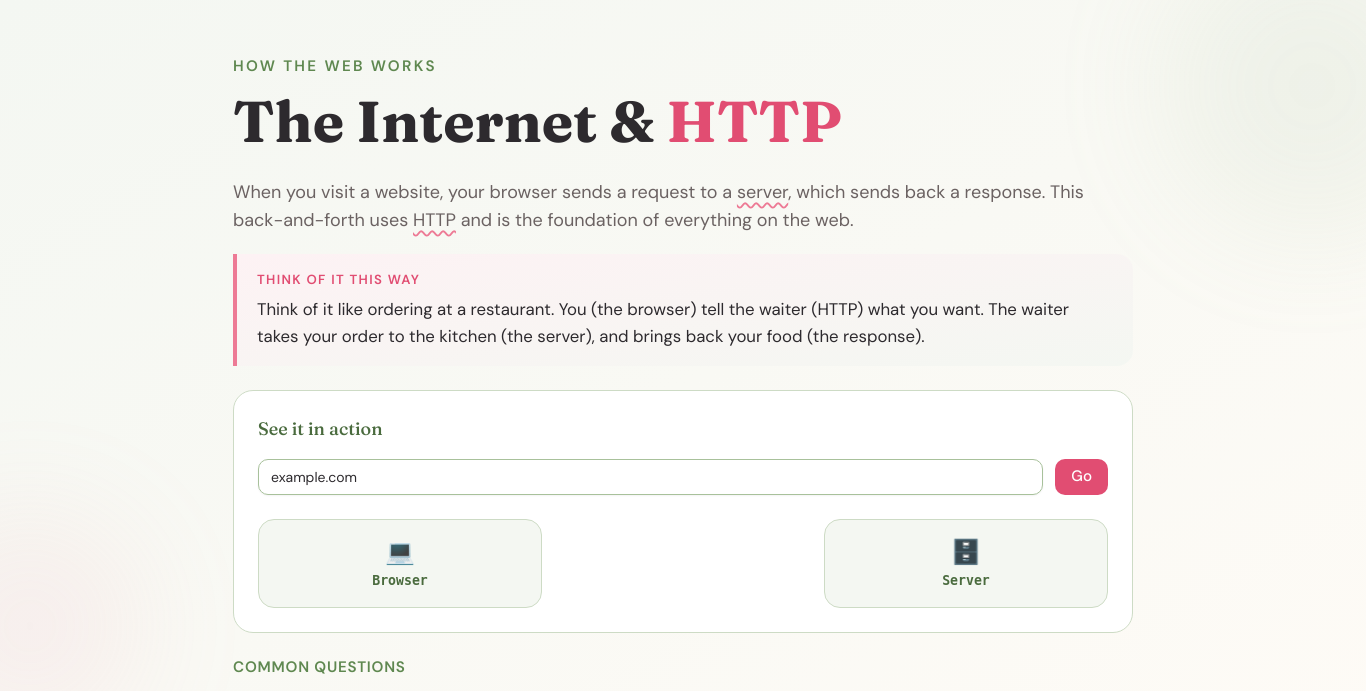
Test: InternetHttpSlide › shows 200 status after clicking Go
What coordinates should you click on to do the following:
click the button "Go"
I would click on:
 (1082, 477)
Its box is [1055,459,1108,495].
Wait 1600 ms
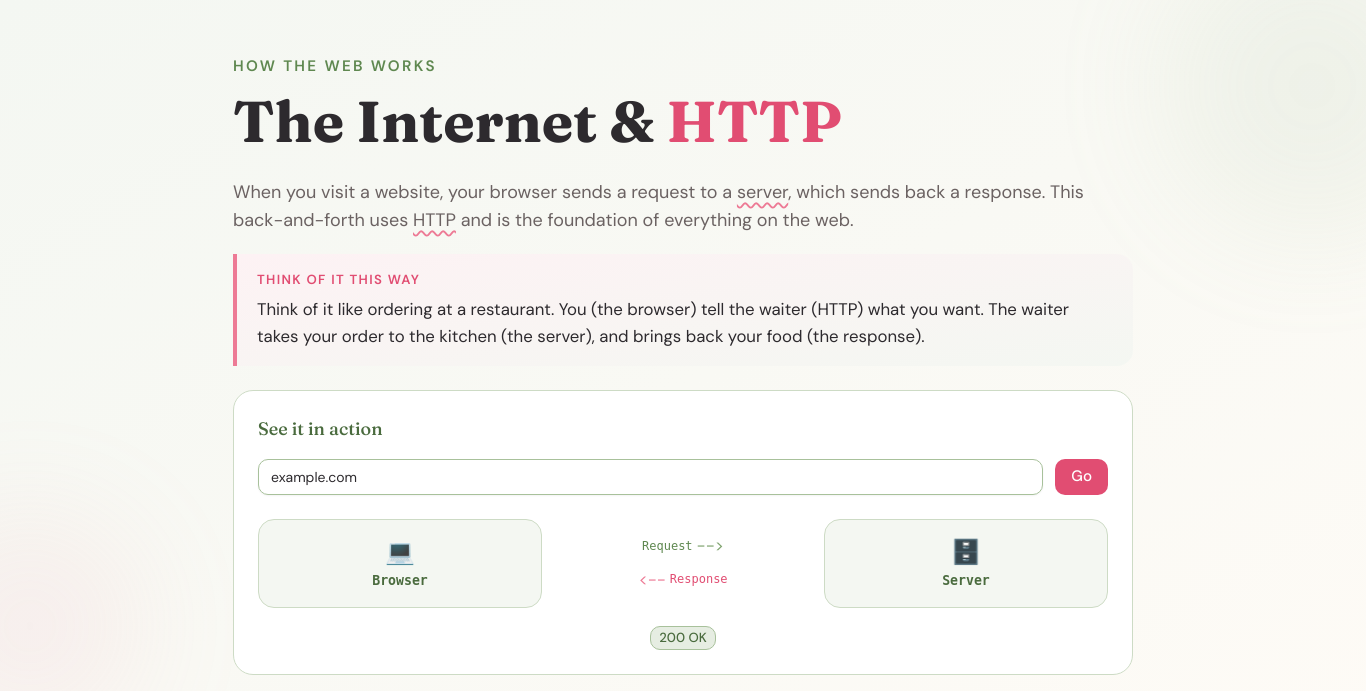
Expected: the text "200 OK" is shown, [650,626,716,650]
